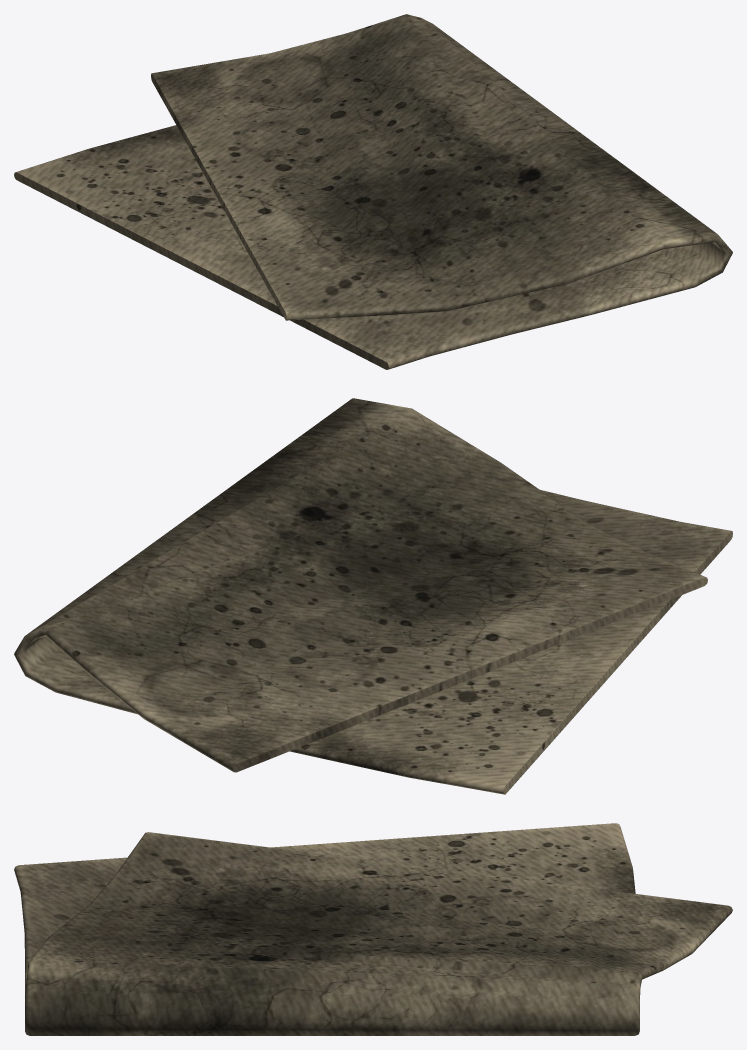
The model's file is dirty_rag.glb.
The picture shows the model from 3 angles, top to bottom: view 1: azimuth 30°, elevation 25°; view 2: azimuth 150°, elevation 25°; view 3: azimuth 270°, elevation 25°; orthographic projection. The views are drawn at different scales.
Visible parts, largest first — view 1: NurbsPath.002; view 2: NurbsPath.002; view 3: NurbsPath.002.
Part boxes in pixels (bbox=[...]): NurbsPath.002: bbox=[14, 14, 732, 369]; NurbsPath.002: bbox=[14, 398, 732, 794]; NurbsPath.002: bbox=[14, 823, 732, 1035].
Bounding box in the file's own units: 3.46 × 0.4584 × 4.75.
1 material, 1 textured.
